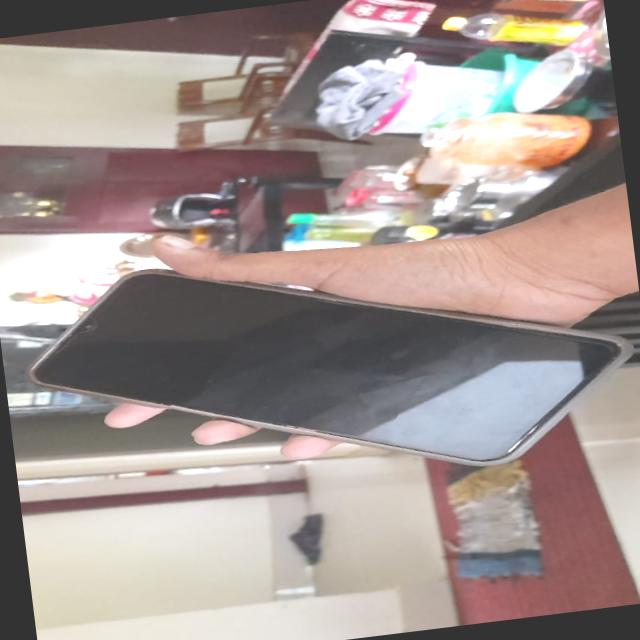Mobile - Recyclable: (13, 196, 640, 534)
